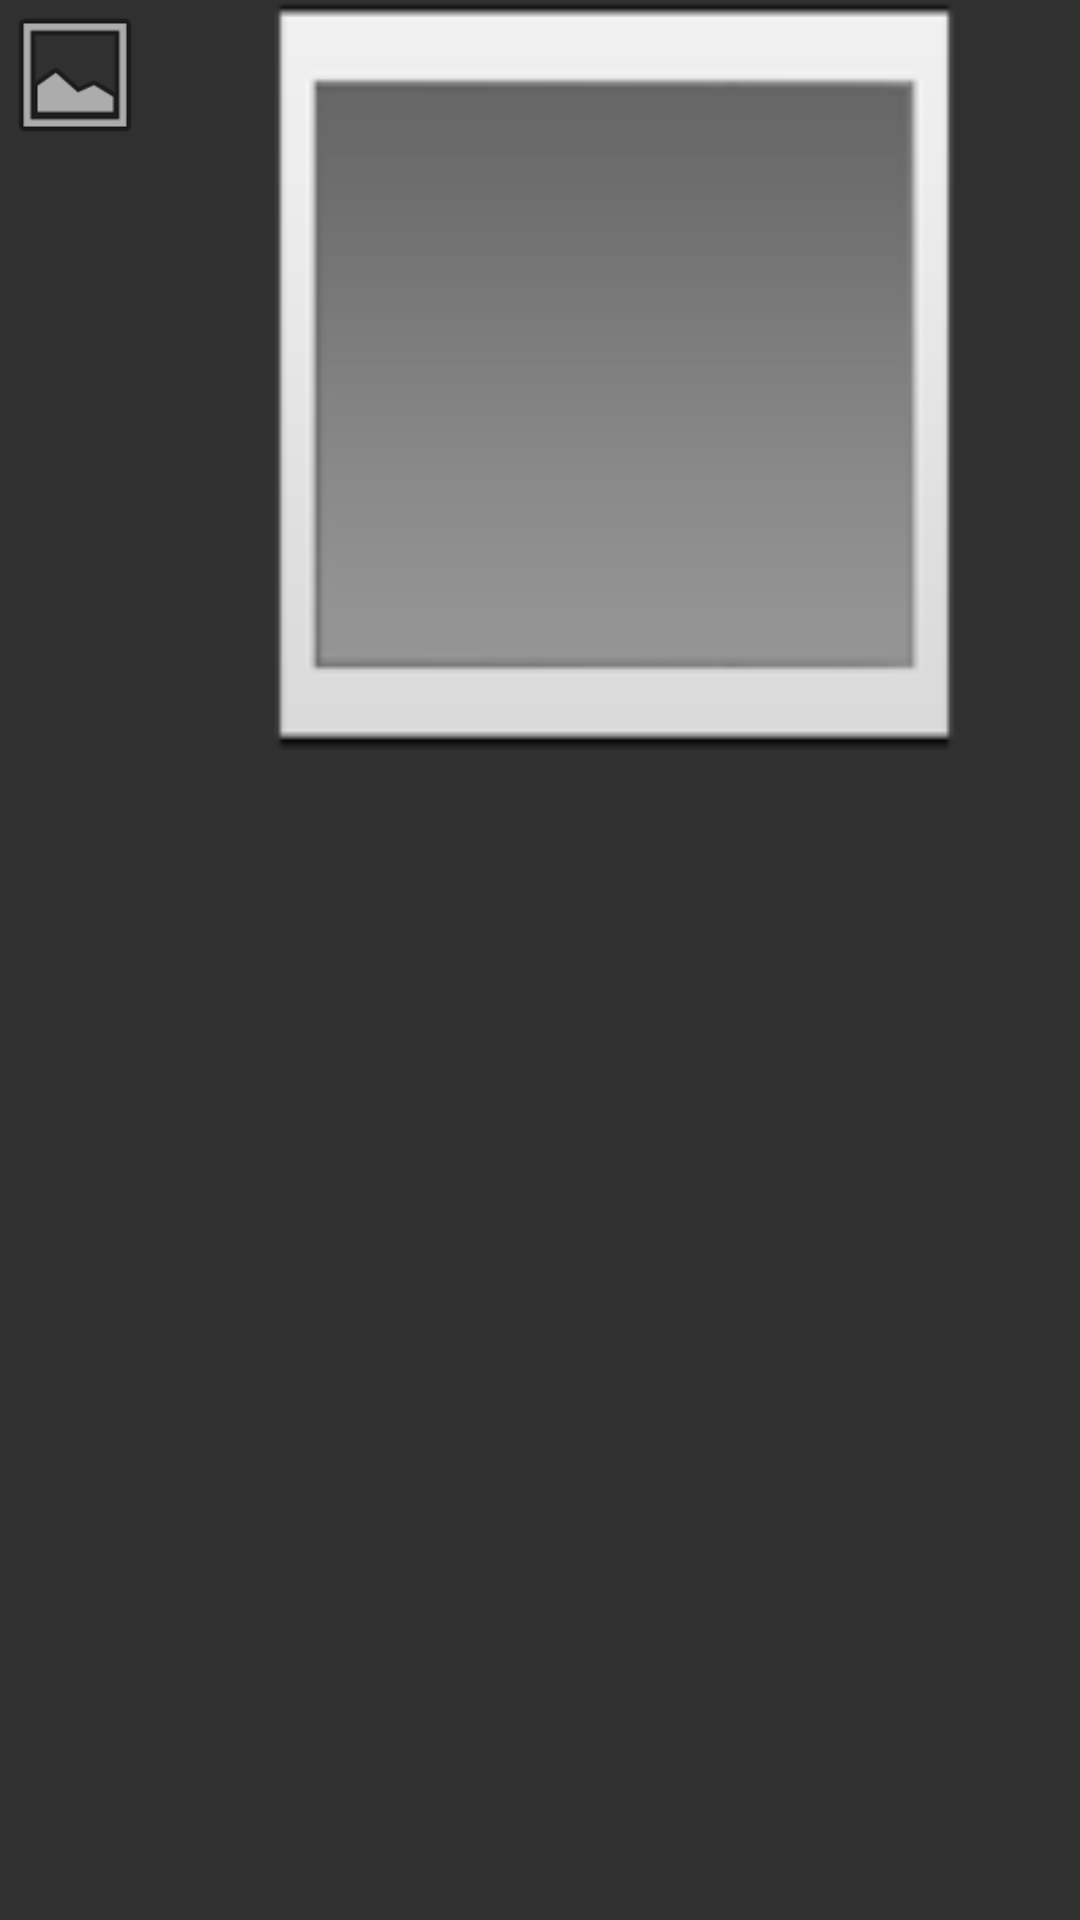

Locate icon controls on the screen. Image size 1080*1920, boxes as bbox(x1, y1, x2, y2).
gallery: bbox(22, 22, 128, 128)
